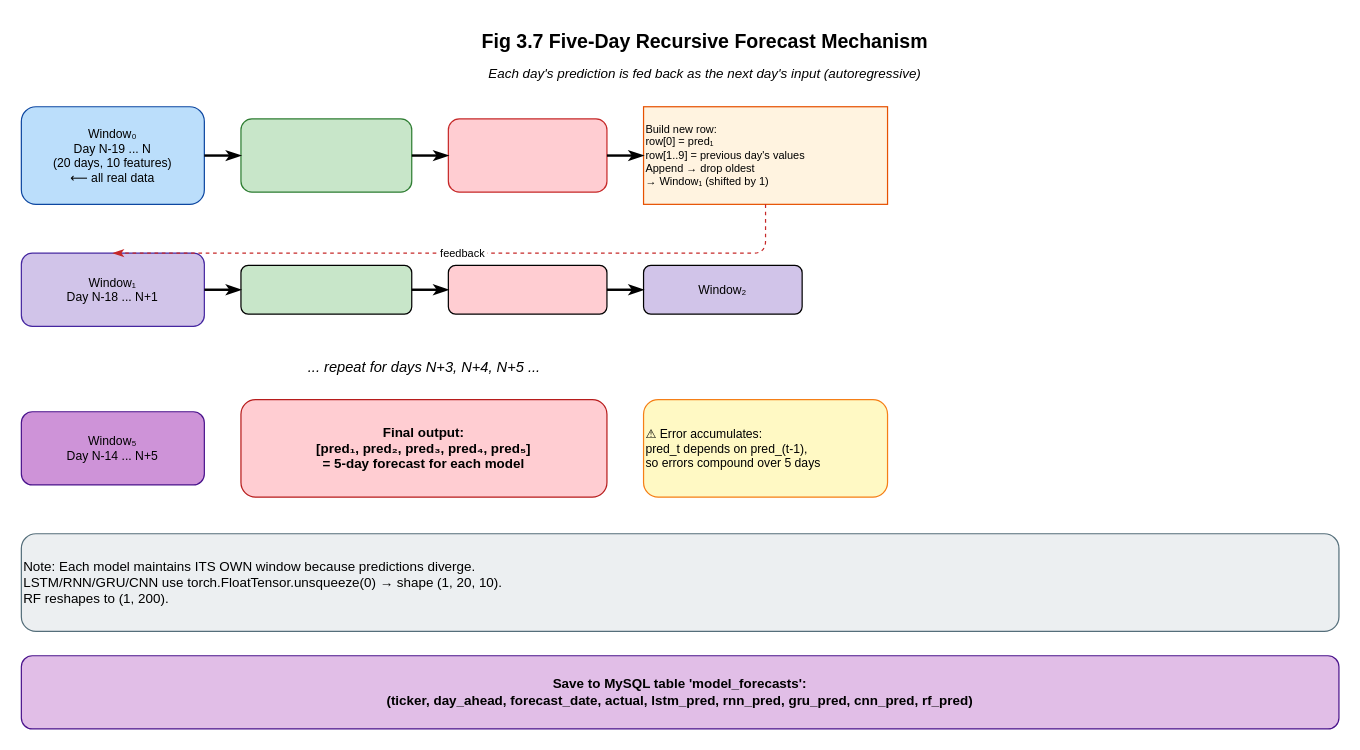
The diagram is 1360 pixels wide and 750 high, and some of its shapes have lost their labels. Each missing label, with the box of its shape:
Model: (240, 264, 412, 314)
Model (LSTM/RNN/GRU/CNN/RF): (240, 118, 412, 192)
pred₁ close_norm for Day N+1: (447, 118, 607, 192)
pred₂ (Day N+2): (447, 264, 607, 314)
